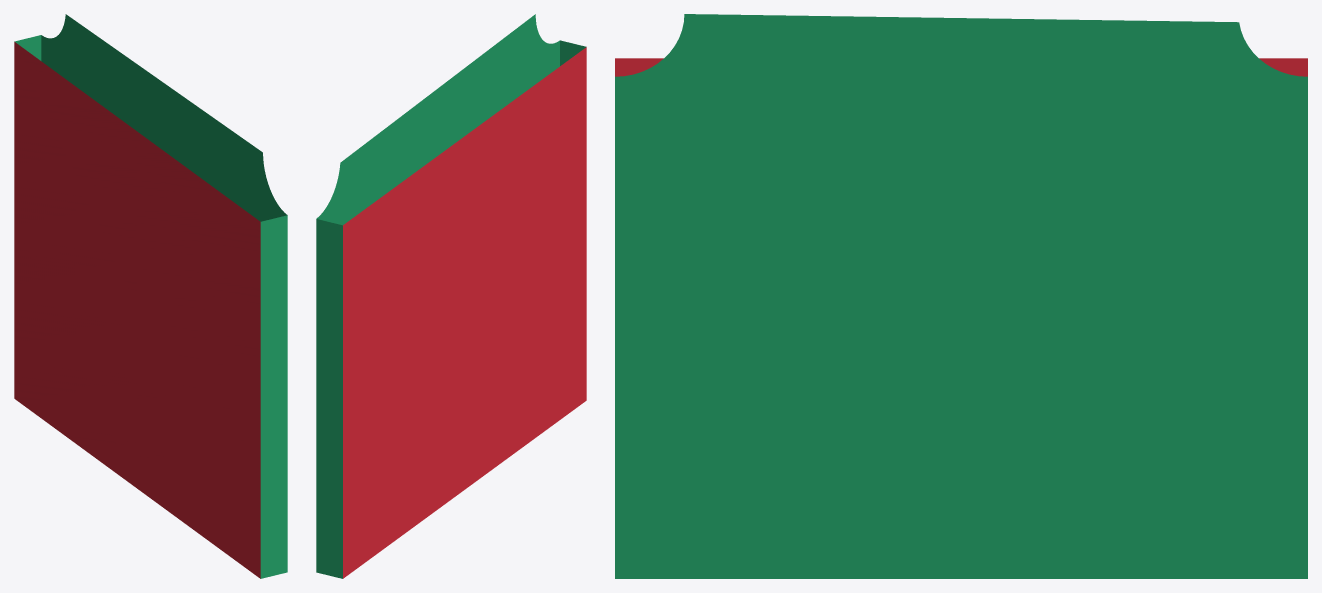
Rendered from SplitT (Grass).fbx.
3 views of the same model, side by side, from view 1: azimuth 30°, elevation 25°; view 2: azimuth 150°, elevation 25°; view 3: azimuth 270°, elevation 25° (orthographic). The views are drawn at different scales.
Parts seen in each view (by area): view 1: splitT; view 2: splitT; view 3: splitT.
Part boxes in pixels (x1,y1,x2,y2): splitT: (14, 14, 287, 578); splitT: (316, 14, 586, 578); splitT: (615, 14, 1307, 578).
Bounding box in the file's own units: 2.49 × 35.43 × 39.37.
